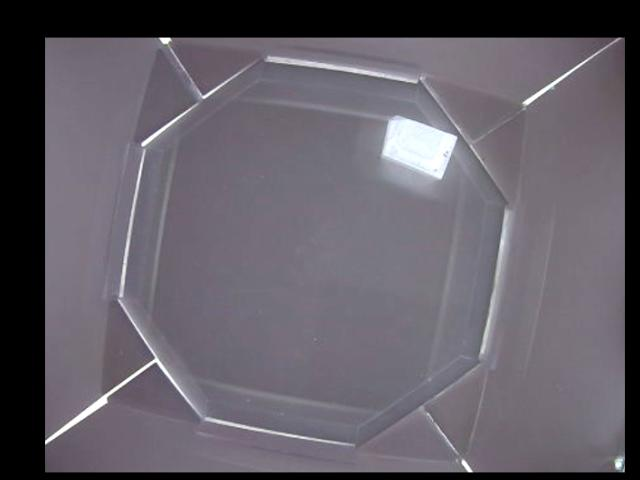China: (379, 114, 456, 175)
